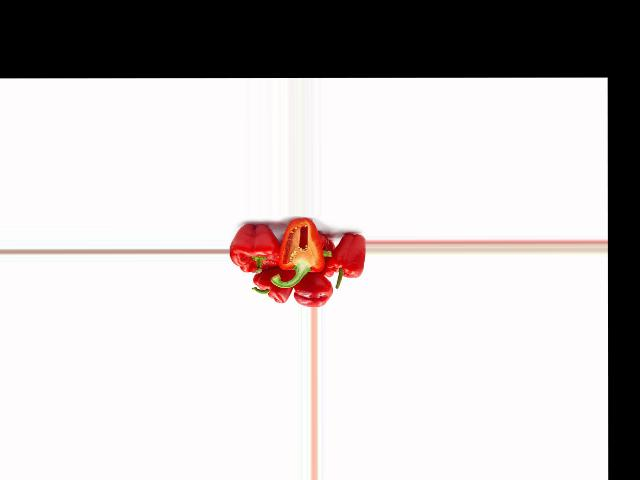bell_pepper: (251, 269, 294, 303)
